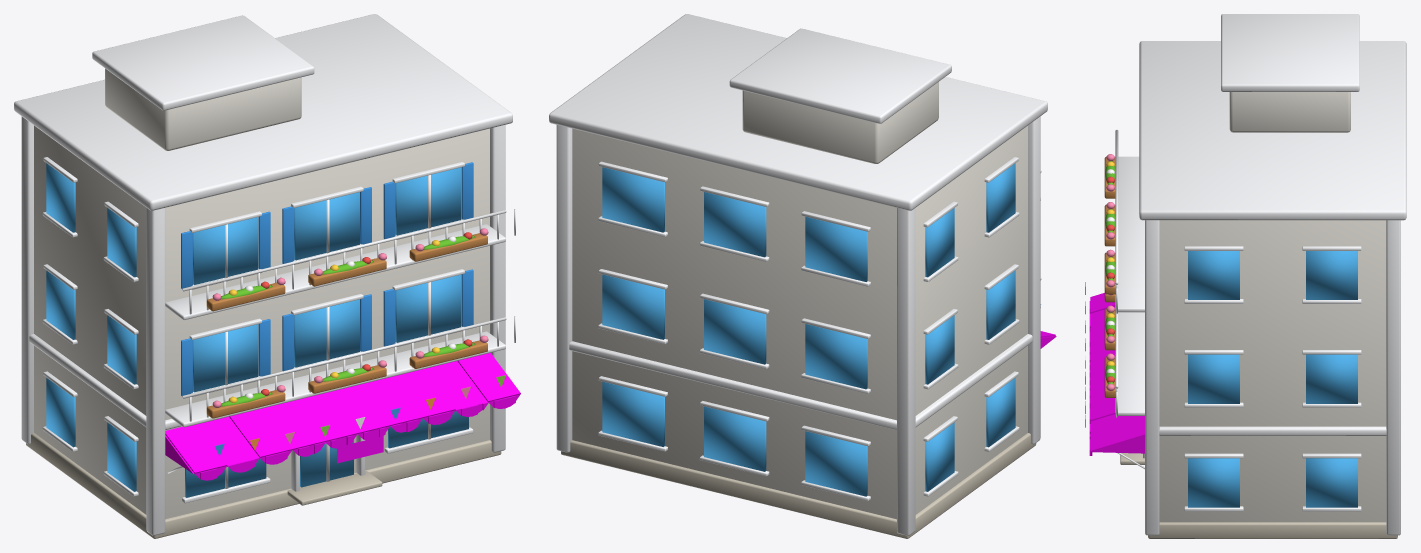
The model's file is shop_white.glb.
3 views of the same model, side by side, from view 1: azimuth 30°, elevation 25°; view 2: azimuth 150°, elevation 25°; view 3: azimuth 270°, elevation 25° (orthographic). The views are drawn at different scales.
Visible parts, largest first — view 1: shop_white; view 2: shop_white; view 3: shop_white.
Boxes of the visible parts, left/top/right/bottom form: shop_white: left=14, top=14, right=520, bottom=538; shop_white: left=549, top=14, right=1056, bottom=538; shop_white: left=1085, top=14, right=1406, bottom=538.
Size of the model in its own units: 11.7 by 12.23 by 9.26.
